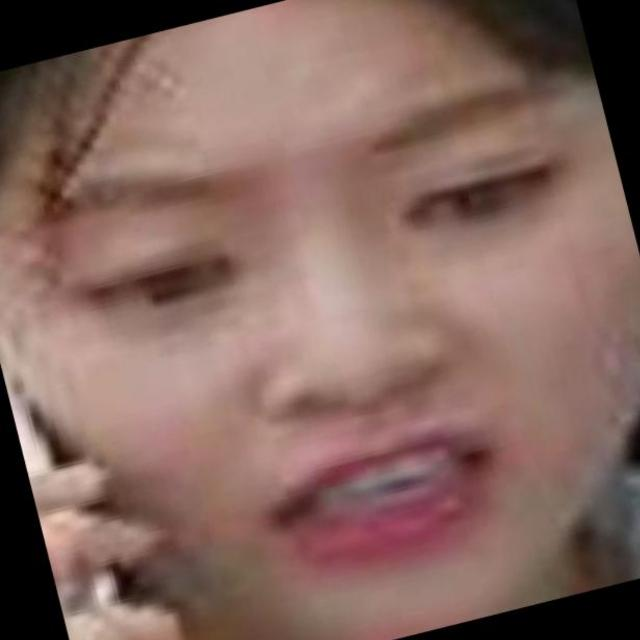Surprised: (40, 88, 640, 640)
